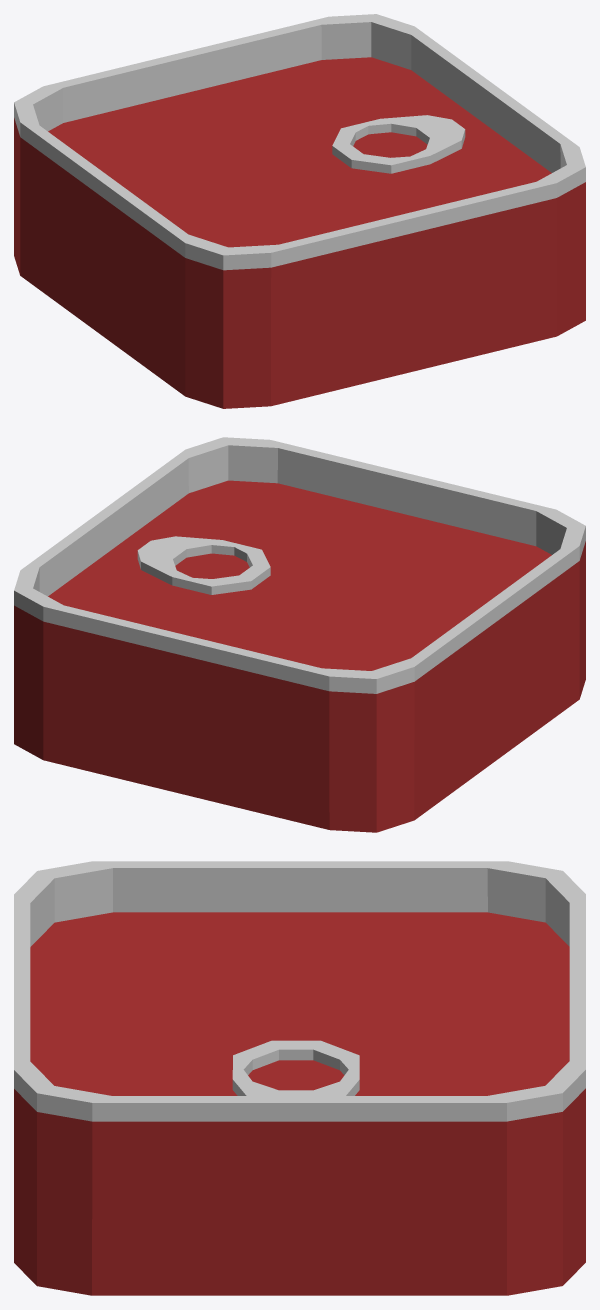
The model's file is Ma_Canned_Small_3.fbx.
The picture shows the model from 3 angles, top to bottom: view 1: azimuth 30°, elevation 25°; view 2: azimuth 150°, elevation 25°; view 3: azimuth 270°, elevation 25°; orthographic projection. The views are drawn at different scales.
Visible parts, largest first — view 1: Ma_Canned_Small_3; view 2: Ma_Canned_Small_3; view 3: Ma_Canned_Small_3.
Part boxes in pixels (bbox=[...]): Ma_Canned_Small_3: bbox=[14, 14, 585, 408]; Ma_Canned_Small_3: bbox=[14, 437, 585, 832]; Ma_Canned_Small_3: bbox=[14, 861, 585, 1295].
Bounding box in the file's own units: 89.43 × 89.43 × 33.27.
